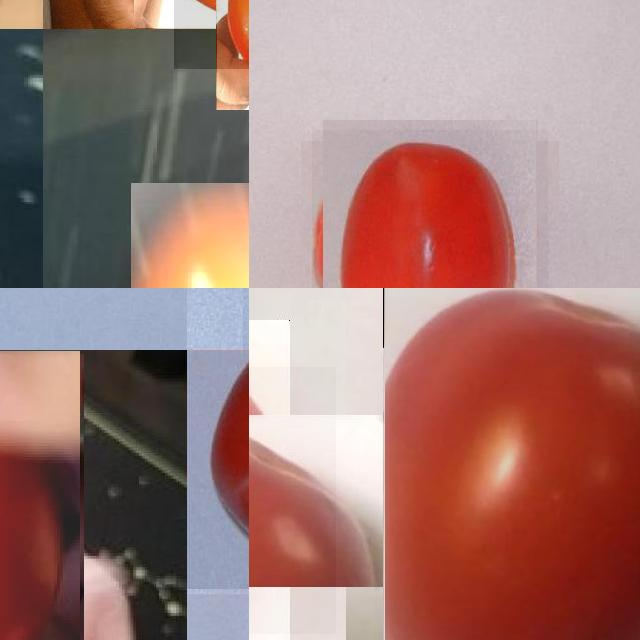0: (131, 183, 249, 288), (174, 0, 249, 69)
Fresh Tomato: (383, 288, 640, 640), (312, 130, 547, 288), (249, 367, 336, 634), (0, 350, 80, 640), (187, 350, 249, 589)
